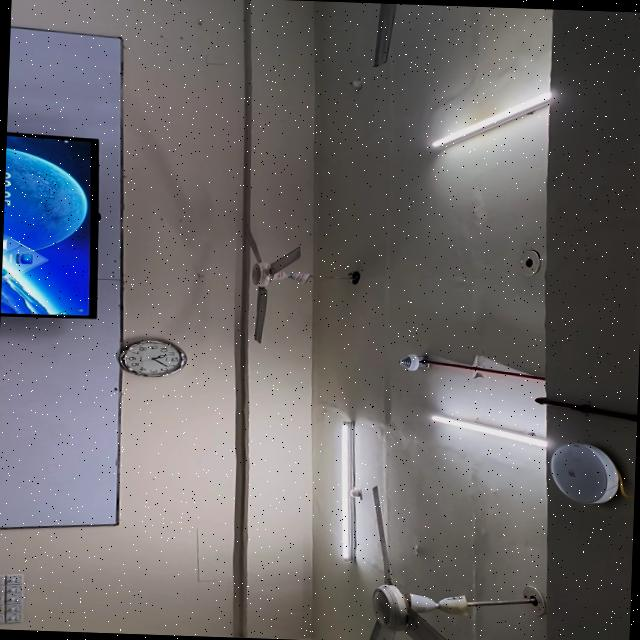Digital board: (0, 132, 99, 316)
Light: (431, 90, 551, 147), (432, 414, 547, 446), (341, 420, 355, 559)
